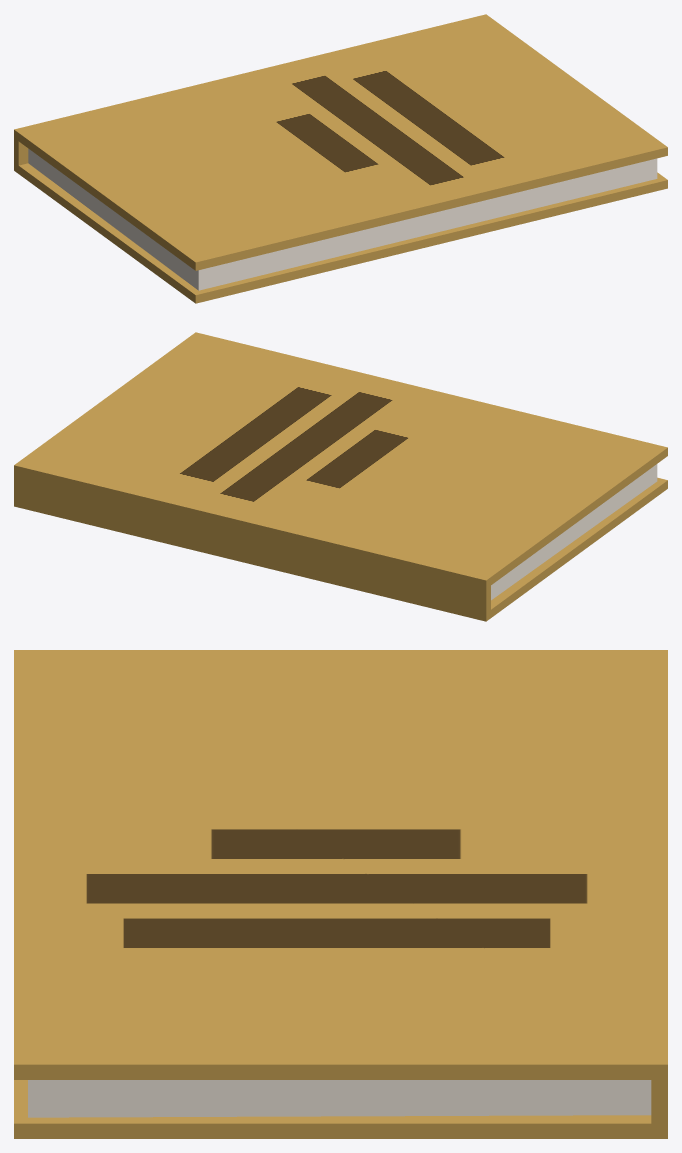
Rendered from PrisonCard.fbx.
The picture shows the model from 3 angles, top to bottom: view 1: azimuth 30°, elevation 25°; view 2: azimuth 150°, elevation 25°; view 3: azimuth 270°, elevation 25°; orthographic projection. The views are drawn at different scales.
Visible parts, largest first — view 1: Cube; view 2: Cube; view 3: Cube.
Part boxes in pixels (bbox=[...]): Cube: bbox=[14, 14, 667, 303]; Cube: bbox=[14, 332, 667, 621]; Cube: bbox=[14, 650, 667, 1138].
Bounding box in the file's own units: 0.6 × 0.05 × 0.4.
